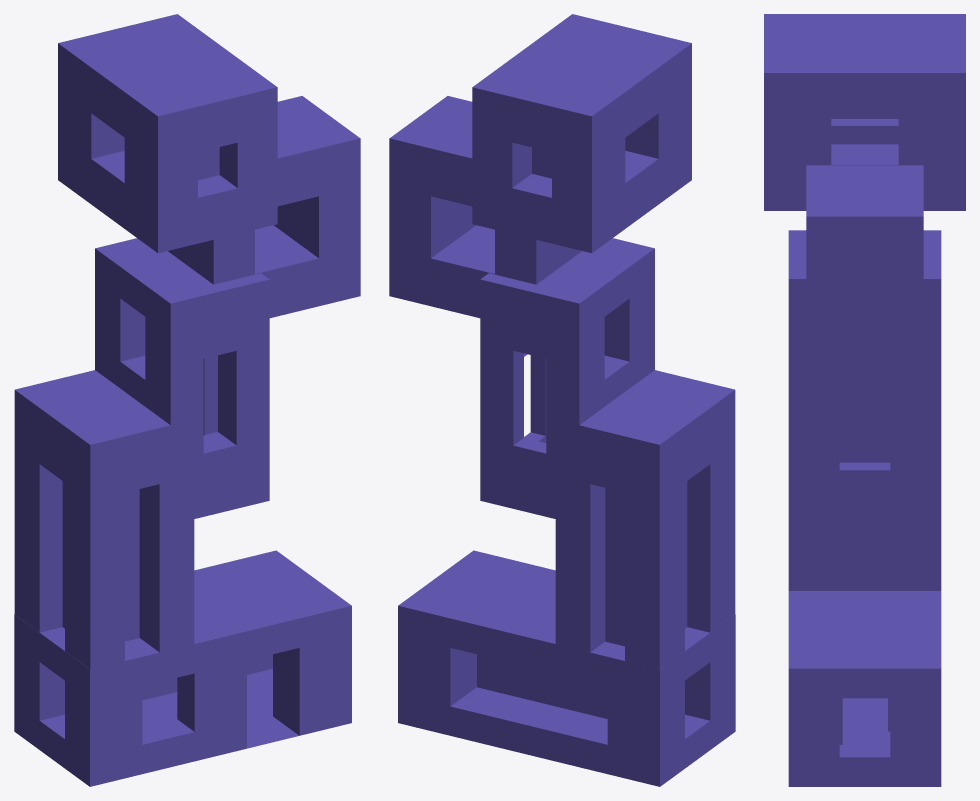
File: square_house4.fbx
3 views of the same model, side by side, from view 1: azimuth 30°, elevation 25°; view 2: azimuth 150°, elevation 25°; view 3: azimuth 270°, elevation 25° (orthographic).
Parts seen in each view (by area): view 1: pasted__pasted__pasted__pCube3; view 2: pasted__pasted__pasted__pCube3; view 3: pasted__pasted__pasted__pCube3.
Boxes of the visible parts, bbox=[...] form: pasted__pasted__pasted__pCube3: bbox=[14, 14, 360, 786]; pasted__pasted__pasted__pCube3: bbox=[389, 14, 735, 786]; pasted__pasted__pasted__pCube3: bbox=[764, 14, 965, 786].
Bounding box in the file's own units: 4.72 × 10.75 × 2.93.
